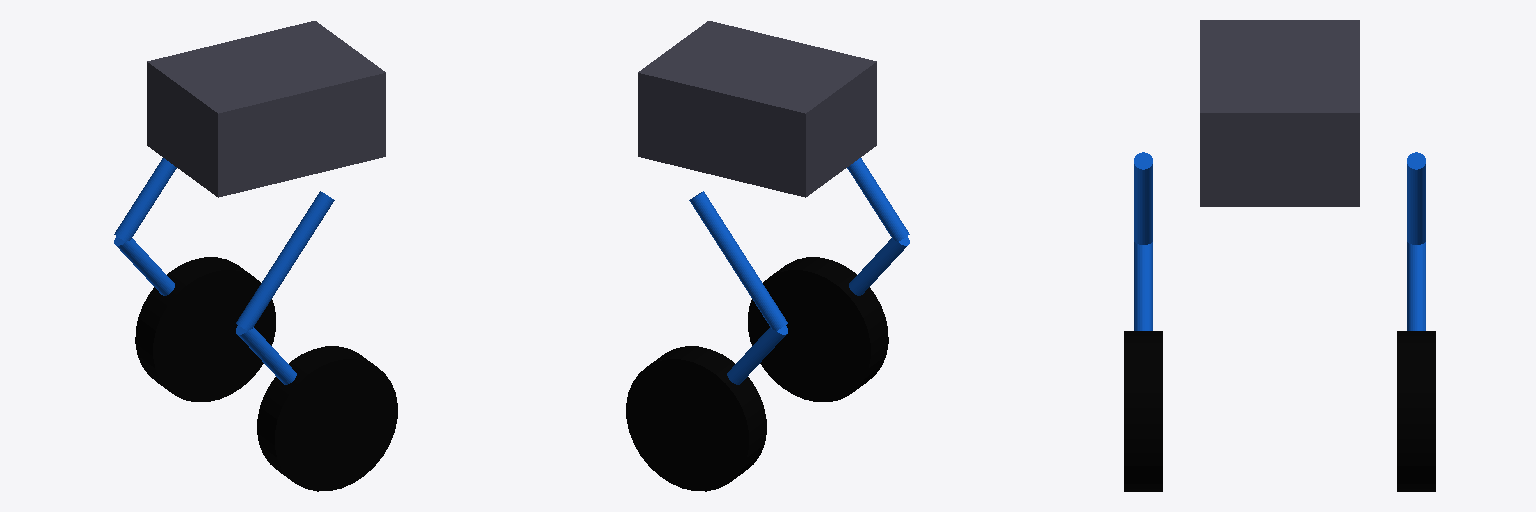
robot.urdf — biped:
<?xml version="1.0"?>
<!-- BipedV1 rough KINEMATIC model for RViz feature testing (no physics).
     Frame convention: origin at body center, X forward, Y left, Z up, metres.
     Each leg: hip (revolute, independent) -> knee (revolute, mimics hip x-2)
     -> wheel (continuous). Equal-length segments keep the wheel directly
     below the hip; symmetric hips = body up/down, differential hips = lean. -->
<robot name="biped">

  <!-- ================= materials (RViz colours) ================= -->
  <material name="body_grey"><color rgba="0.3 0.3 0.35 1.0"/></material>
  <material name="leg_blue"><color rgba="0.1 0.4 0.8 1.0"/></material>
  <material name="wheel_black"><color rgba="0.05 0.05 0.05 1.0"/></material>

  <!-- ================= body (root link) ================= -->
  <!-- 11.25 x 8.25 x 5.375 in -->
  <link name="base_link">
    <visual>
      <geometry>
        <box size="0.2858 0.2096 0.1365"/>
      </geometry>
      <origin xyz="0 0 0" rpy="0 0 0"/>
      <material name="body_grey"/>
    </visual>
  </link>

  <!-- ================= LEFT LEG ================= -->
  <!-- hip sits at bottom of body, half the 358 mm track out to +Y -->
  <joint name="left_hip_joint" type="revolute">
    <parent link="base_link"/>
    <child link="left_upper_leg"/>
    <origin xyz="0 0.179 -0.0683" rpy="0 0 0"/>
    <axis xyz="0 1 0"/>
    <limit lower="0.10" upper="1.24" effort="20" velocity="10"/>
  </joint>

  <!-- upper segment: 9.1 in long, 1 in thick, hangs down from hip -->
  <link name="left_upper_leg">
    <visual>
      <geometry>
        <cylinder radius="0.0127" length="0.2311"/>
      </geometry>
      <origin xyz="0 0 -0.1156" rpy="0 0 0"/>
      <material name="leg_blue"/>
    </visual>
  </link>

  <!-- knee: folds the lower segment back at -2x the hip angle so the
       wheel tracks straight down under the hip -->
  <joint name="left_knee_joint" type="revolute">
    <parent link="left_upper_leg"/>
    <child link="left_lower_leg"/>
    <origin xyz="0 0 -0.2311" rpy="0 0 0"/>
    <axis xyz="0 1 0"/>
    <limit lower="-2.4804" upper="0" effort="20" velocity="10"/>
    <mimic joint="left_hip_joint" multiplier="-2" offset="0"/>
  </joint>

  <link name="left_lower_leg">
    <visual>
      <geometry>
        <cylinder radius="0.0127" length="0.2311"/>
      </geometry>
      <origin xyz="0 0 -0.1156" rpy="0 0 0"/>
      <material name="leg_blue"/>
    </visual>
  </link>

  <!-- wheel: spins about Y (rolls in X). Cylinder rotated so its axle is +Y -->
  <joint name="left_wheel_joint" type="continuous">
    <parent link="left_lower_leg"/>
    <child link="left_wheel"/>
    <origin xyz="0 0 -0.2311" rpy="0 0 0"/>
    <axis xyz="0 1 0"/>
  </joint>

  <link name="left_wheel">
    <visual>
      <geometry>
        <cylinder radius="0.105" length="0.052"/>
      </geometry>
      <origin xyz="0 0 0" rpy="1.5708 0 0"/>
      <material name="wheel_black"/>
    </visual>
  </link>

  <!-- ================= RIGHT LEG (mirror of left, -Y) ================= -->
  <joint name="right_hip_joint" type="revolute">
    <parent link="base_link"/>
    <child link="right_upper_leg"/>
    <origin xyz="0 -0.179 -0.0683" rpy="0 0 0"/>
    <axis xyz="0 1 0"/>
    <limit lower="0.10" upper="1.24" effort="20" velocity="10"/>
  </joint>

  <link name="right_upper_leg">
    <visual>
      <geometry>
        <cylinder radius="0.0127" length="0.2311"/>
      </geometry>
      <origin xyz="0 0 -0.1156" rpy="0 0 0"/>
      <material name="leg_blue"/>
    </visual>
  </link>

  <joint name="right_knee_joint" type="revolute">
    <parent link="right_upper_leg"/>
    <child link="right_lower_leg"/>
    <origin xyz="0 0 -0.2311" rpy="0 0 0"/>
    <axis xyz="0 1 0"/>
    <limit lower="-2.4804" upper="0" effort="20" velocity="10"/>
    <mimic joint="right_hip_joint" multiplier="-2" offset="0"/>
  </joint>

  <link name="right_lower_leg">
    <visual>
      <geometry>
        <cylinder radius="0.0127" length="0.2311"/>
      </geometry>
      <origin xyz="0 0 -0.1156" rpy="0 0 0"/>
      <material name="leg_blue"/>
    </visual>
  </link>

  <joint name="right_wheel_joint" type="continuous">
    <parent link="right_lower_leg"/>
    <child link="right_wheel"/>
    <origin xyz="0 0 -0.2311" rpy="0 0 0"/>
    <axis xyz="0 1 0"/>
  </joint>

  <link name="right_wheel">
    <visual>
      <geometry>
        <cylinder radius="0.105" length="0.052"/>
      </geometry>
      <origin xyz="0 0 0" rpy="1.5708 0 0"/>
      <material name="wheel_black"/>
    </visual>
  </link>

</robot>

--- Render facts (derived) ---
3 views of the same robot in one strip: view 1: azimuth 30°, elevation 25°; view 2: azimuth 150°, elevation 25°; view 3: azimuth 270°, elevation 25° (orthographic).
Robot: biped — 7 links, 6 joints (4 revolute, 2 continuous); root link base_link; default pose: joints at zero except 2 at the middle of their limits (left_hip_joint = 0.67, left_knee_joint = -1.34, right_hip_joint = 0.67, right_knee_joint = -1.34).
Links seen in each view (by area): view 1: base_link, right_wheel, left_wheel, right_upper_leg, left_upper_leg, right_lower_leg, left_lower_leg; view 2: base_link, left_wheel, right_wheel, left_upper_leg, right_upper_leg, left_lower_leg, right_lower_leg; view 3: base_link, left_wheel, right_wheel, left_upper_leg, right_upper_leg, left_lower_leg, right_lower_leg.
Boxes of the visible links, box(x1,y1,x2,y2) form: base_link: box(147, 21, 385, 197); right_wheel: box(257, 346, 397, 491); left_wheel: box(135, 257, 275, 401); right_upper_leg: box(236, 191, 334, 330); left_upper_leg: box(114, 158, 176, 241); right_lower_leg: box(236, 325, 296, 384); left_lower_leg: box(114, 236, 174, 295); base_link: box(638, 21, 876, 197); left_wheel: box(626, 346, 766, 491); right_wheel: box(748, 257, 888, 401); left_upper_leg: box(689, 191, 787, 330); right_upper_leg: box(847, 158, 909, 241); left_lower_leg: box(727, 325, 787, 384); right_lower_leg: box(849, 236, 909, 295); base_link: box(1200, 20, 1359, 206); left_wheel: box(1397, 331, 1435, 491); right_wheel: box(1124, 331, 1162, 491); left_upper_leg: box(1407, 152, 1425, 244); right_upper_leg: box(1134, 152, 1152, 244); left_lower_leg: box(1407, 242, 1425, 330); right_lower_leg: box(1134, 242, 1152, 330).
Bounding box of the posed robot: 0.2964 × 0.41 × 0.6035 m (x, y, z).
Geometry: primitives only (box / cylinder / sphere), no mesh files.
